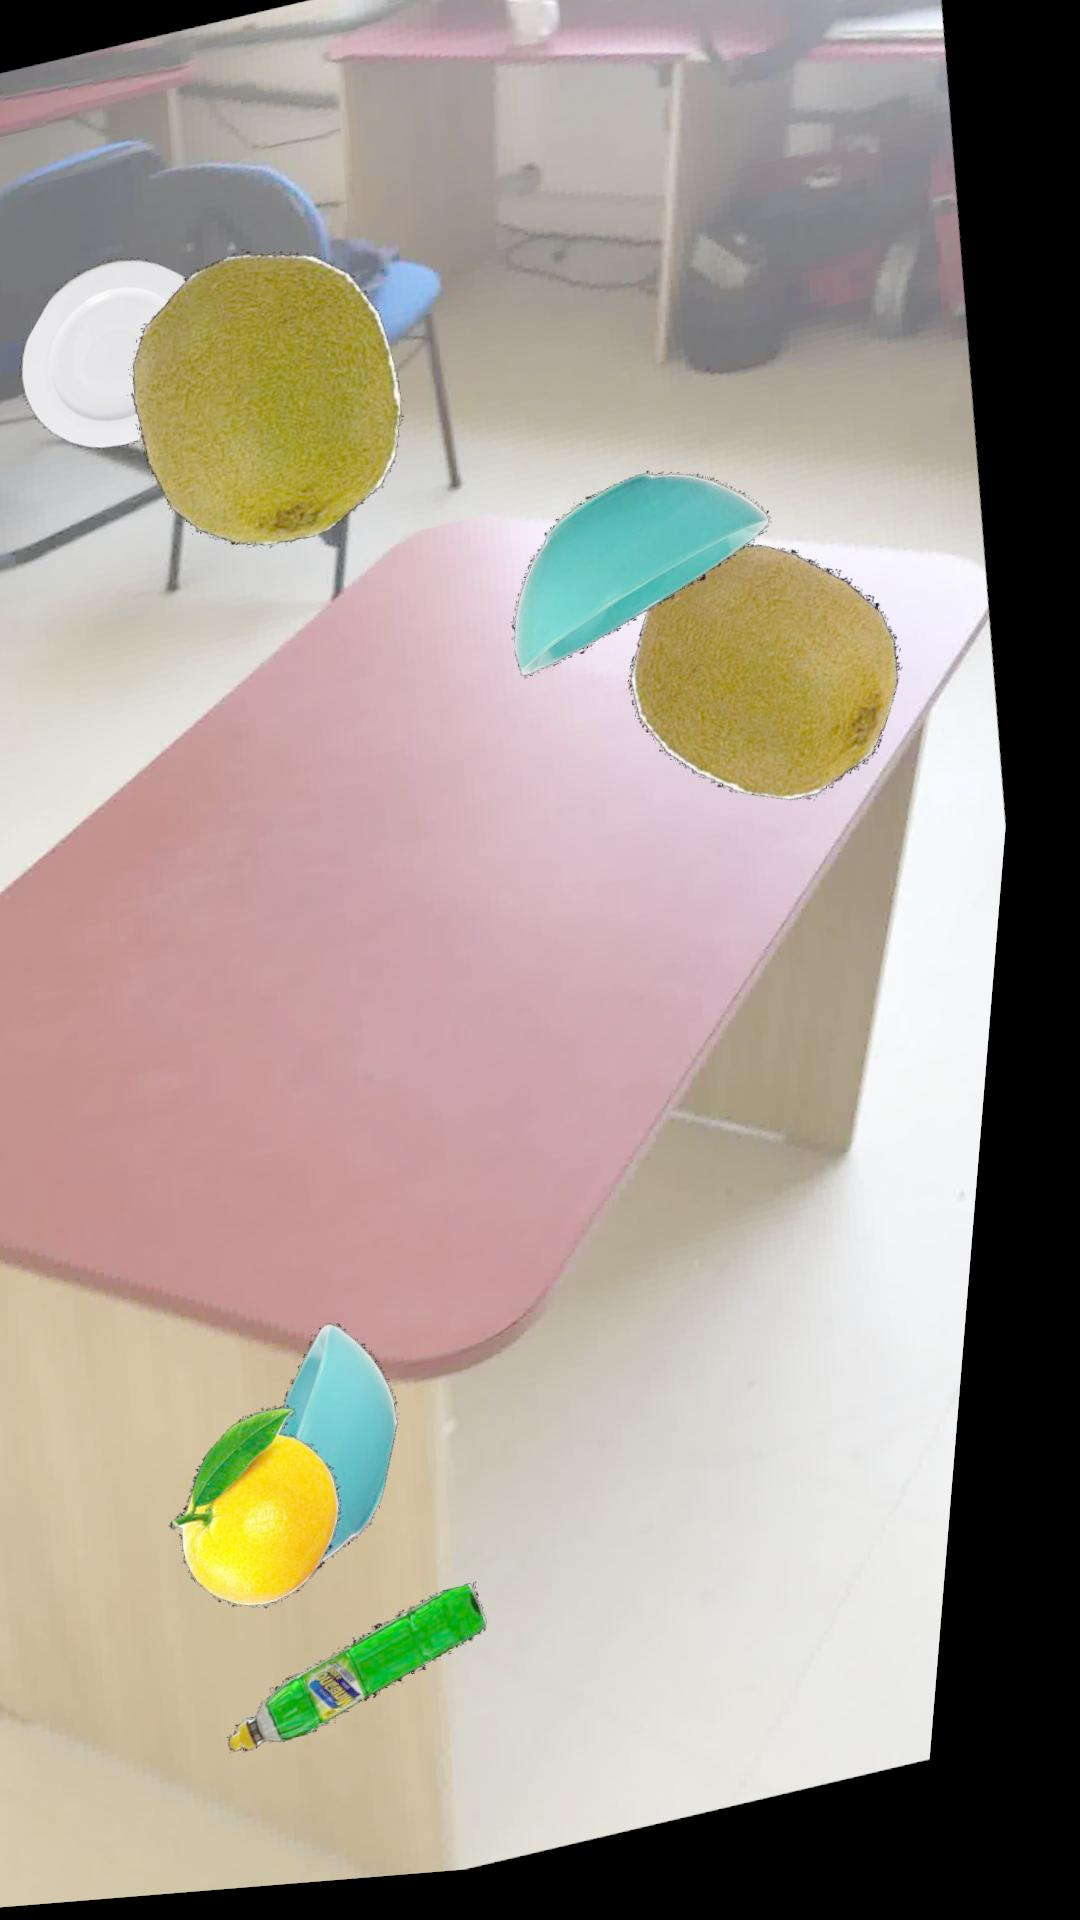bowl: (521, 480, 777, 684), (302, 1328, 421, 1567)
cleaner: (256, 1590, 513, 1756)
kiwi: (135, 256, 409, 549), (638, 555, 910, 812)
orange: (194, 1410, 365, 1611)
plate: (25, 258, 189, 448)
